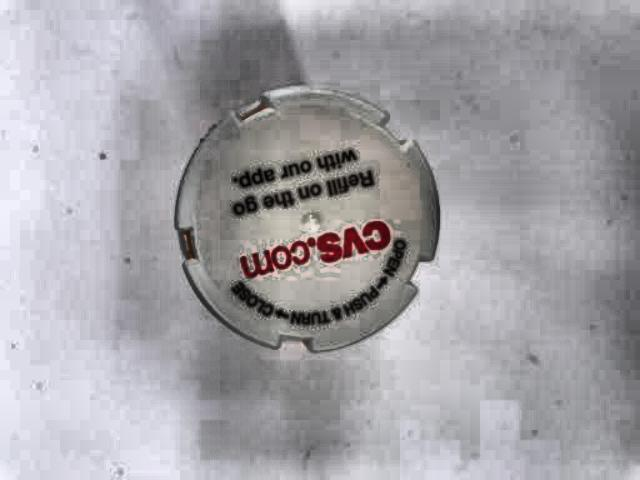Plastic: (171, 80, 457, 372)
